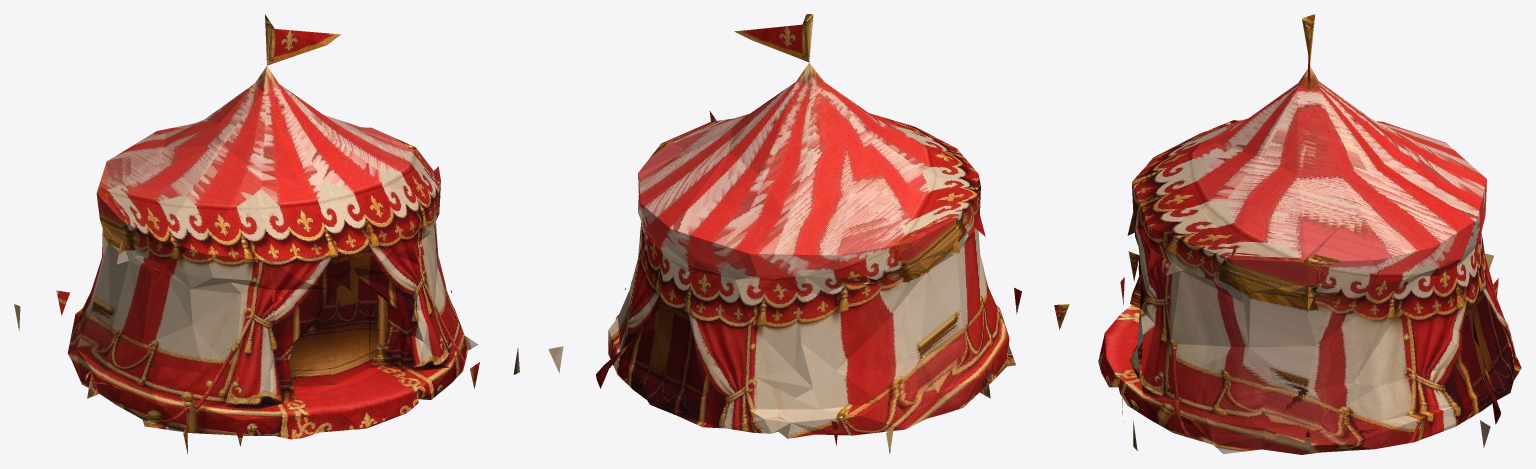
The model's file is tent.glb.
3 renders of one model, left to right at view 1: azimuth 30°, elevation 25°; view 2: azimuth 150°, elevation 25°; view 3: azimuth 270°, elevation 25°, orthographic. The views are drawn at different scales.
Visible parts, largest first — view 1: geometry_0; view 2: geometry_0; view 3: geometry_0.
Part boxes in pixels (<box>): geometry_0: <box>14,14,519,454</box>; geometry_0: <box>548,14,1069,454</box>; geometry_0: <box>1098,14,1521,454</box>.
Size of the model in its own units: 5.85 by 5.21 by 5.65.
Materials: 1 (1 with a texture image).
